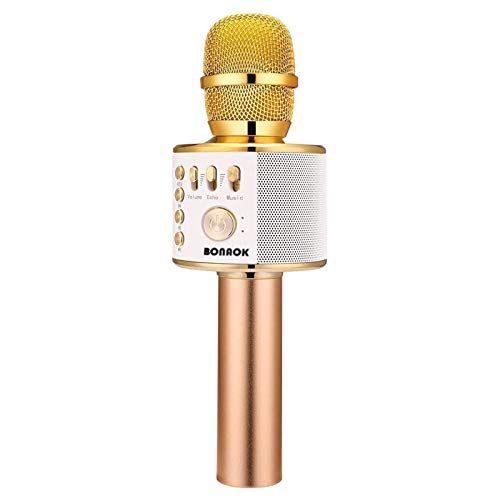microphone: (167, 11, 332, 492)
